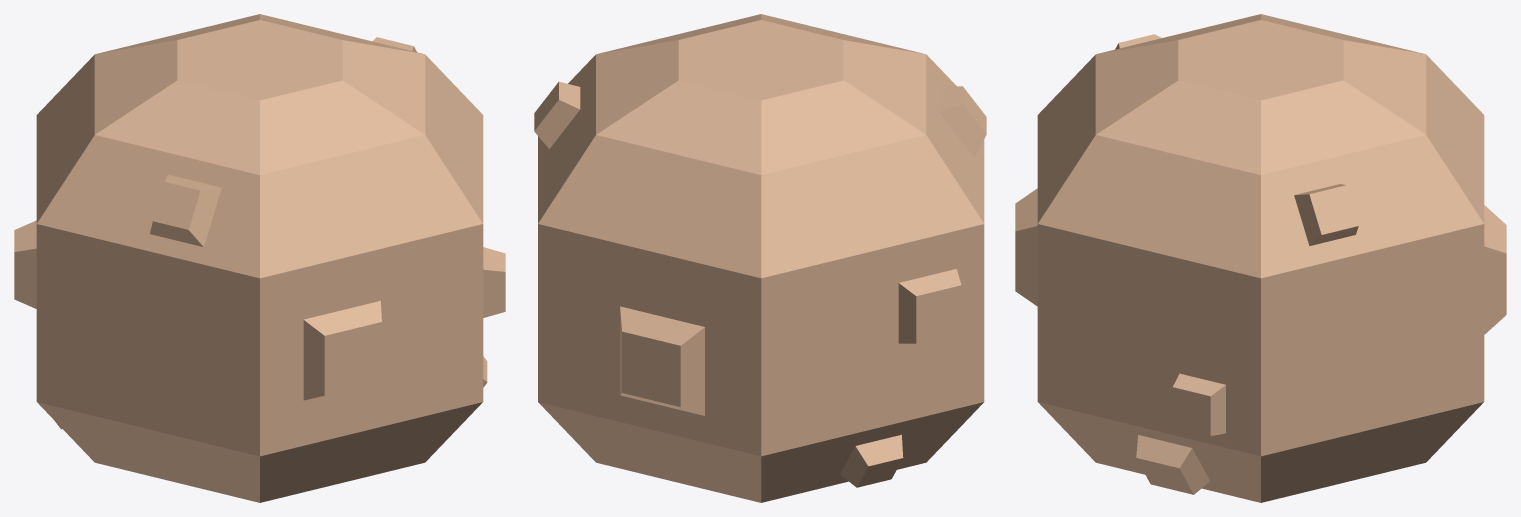
The model's file is meteorFull.glb.
The picture shows the model from 3 angles, left to right: view 1: azimuth 30°, elevation 25°; view 2: azimuth 150°, elevation 25°; view 3: azimuth 270°, elevation 25°; orthographic projection.
Visible parts, largest first — view 1: meteorFull; view 2: meteorFull; view 3: meteorFull.
Part boxes in pixels (left/top/right/bottom): meteorFull: left=14, top=14, right=505, bottom=502; meteorFull: left=534, top=14, right=986, bottom=502; meteorFull: left=1015, top=14, right=1506, bottom=502.
Size of the model in its own units: 11.55 by 9.8 by 11.
